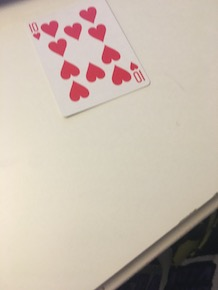TenOfHearts: (14, 1, 151, 121)
